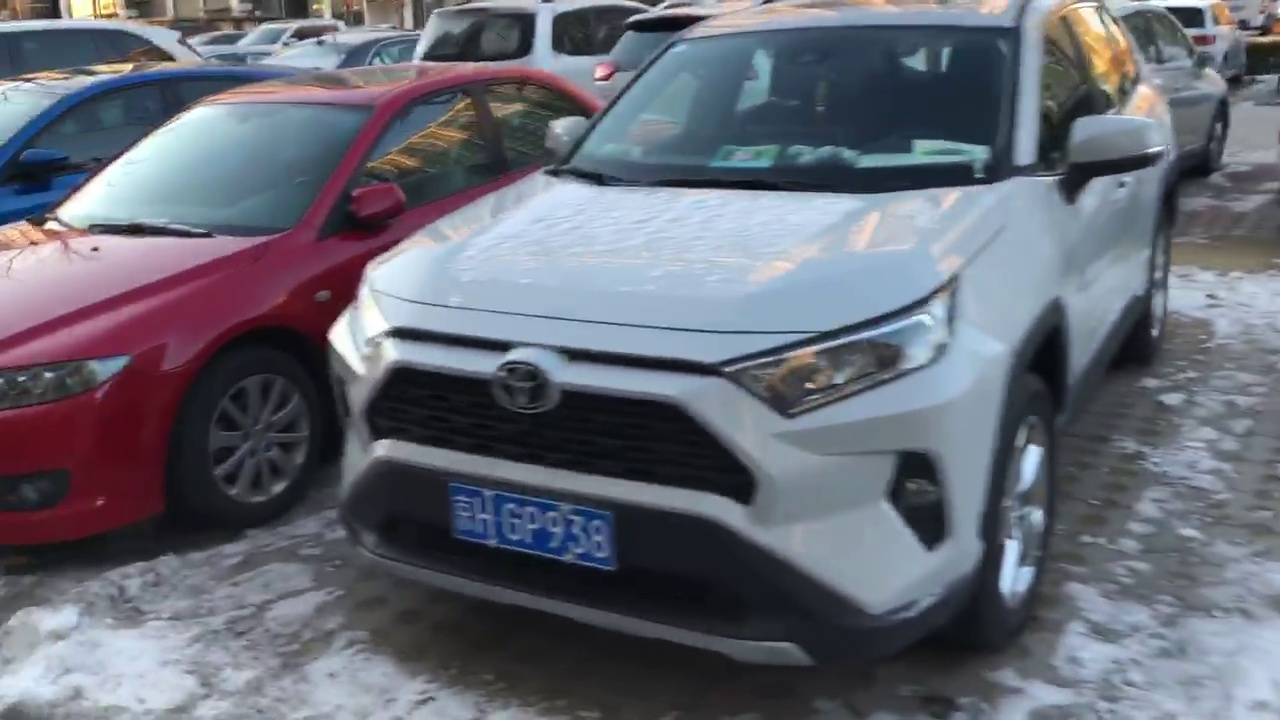plate: (428, 488, 635, 556)
